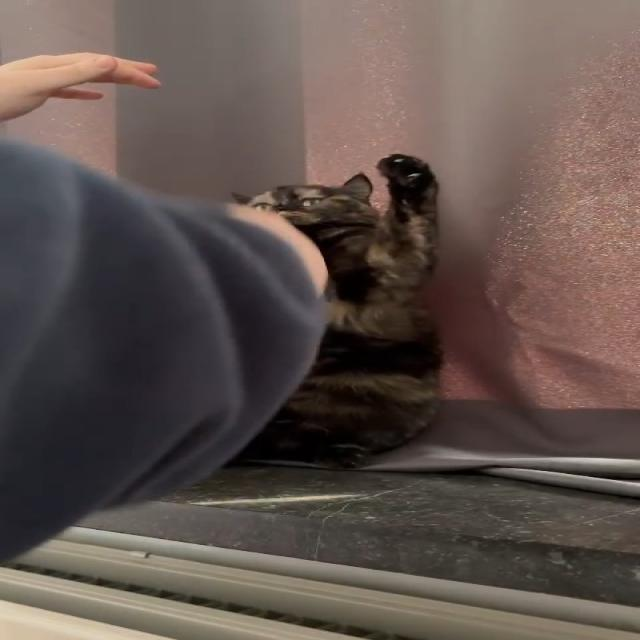authorized: (227, 153, 444, 469)
